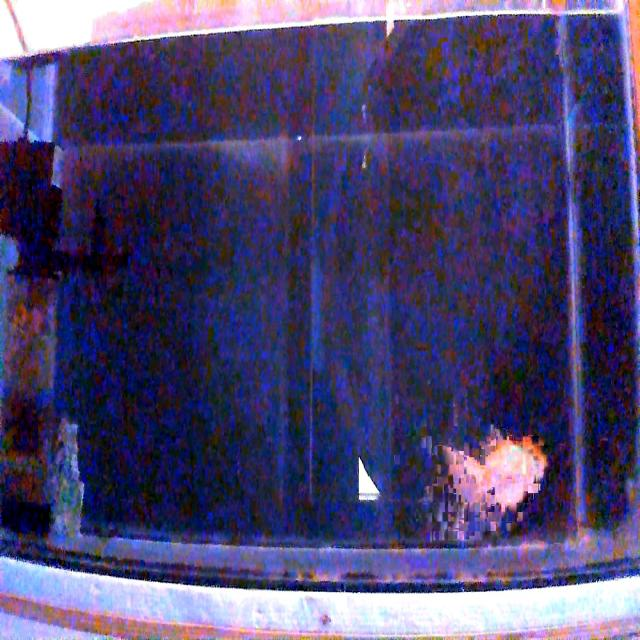fish: (445, 428, 547, 521)
